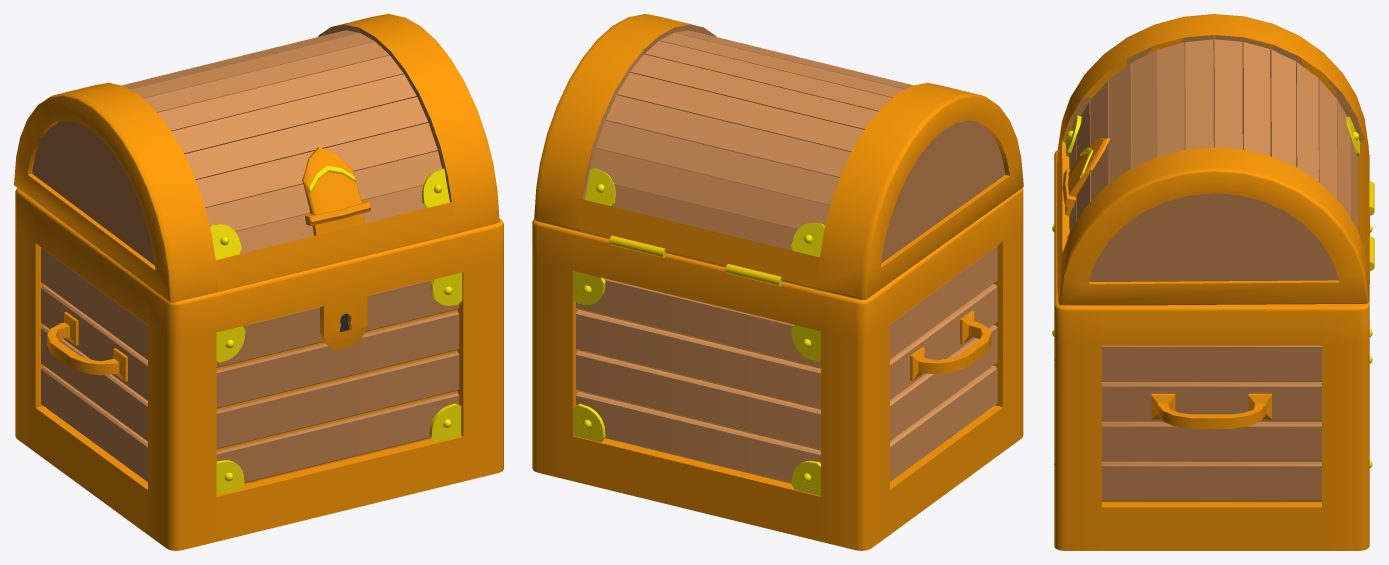
File: Chest_Animated.fbx
The picture shows the model from 3 angles, left to right: view 1: azimuth 30°, elevation 25°; view 2: azimuth 150°, elevation 25°; view 3: azimuth 270°, elevation 25°; orthographic projection. The views are drawn at different scales.
Parts seen in each view (by area): view 1: Chest_Bottom, Chest_Up; view 2: Chest_Bottom, Chest_Up; view 3: Chest_Up, Chest_Bottom.
Boxes of the visible parts, x1=… form: Chest_Bottom: x1=15, y1=188, x2=503, y2=550; Chest_Up: x1=14, y1=14, x2=499, y2=302; Chest_Bottom: x1=532, y1=188, x2=1023, y2=550; Chest_Up: x1=534, y1=14, x2=1023, y2=299; Chest_Up: x1=1057, y1=14, x2=1369, y2=305; Chest_Bottom: x1=1052, y1=150, x2=1374, y2=550.
Size of the model in its own units: 77.36 by 71.62 by 55.23.
